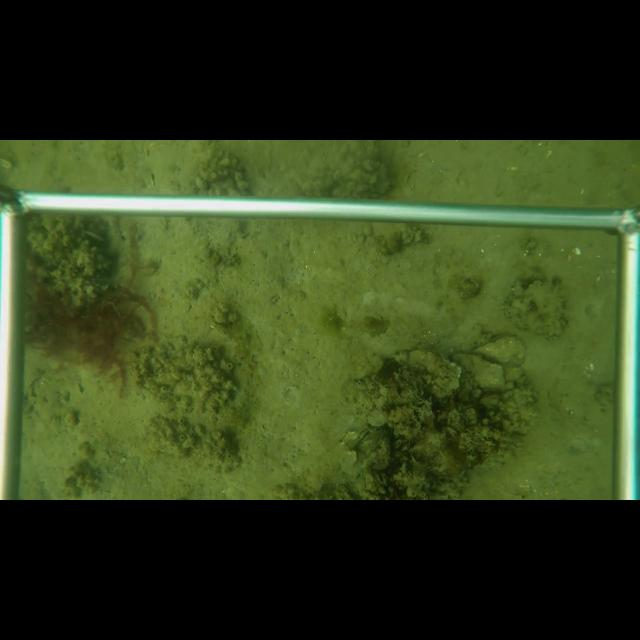Oyster-Closed: (501, 276, 570, 344), (391, 345, 462, 406), (450, 350, 506, 391), (469, 334, 529, 367)
Oyster-Open: (357, 425, 386, 452)
